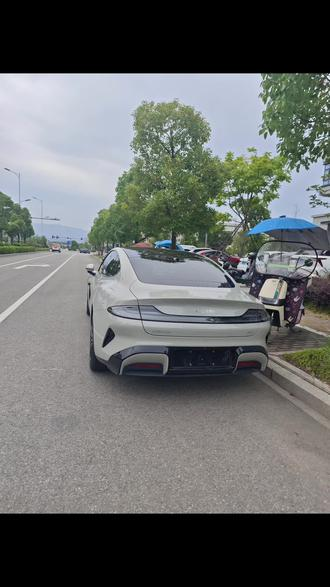su7: (89, 244, 271, 377)
